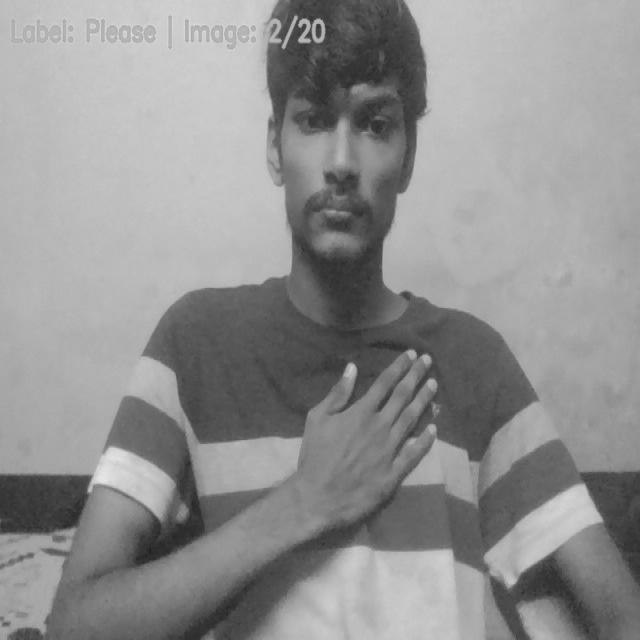Please: (293, 340, 443, 542)
